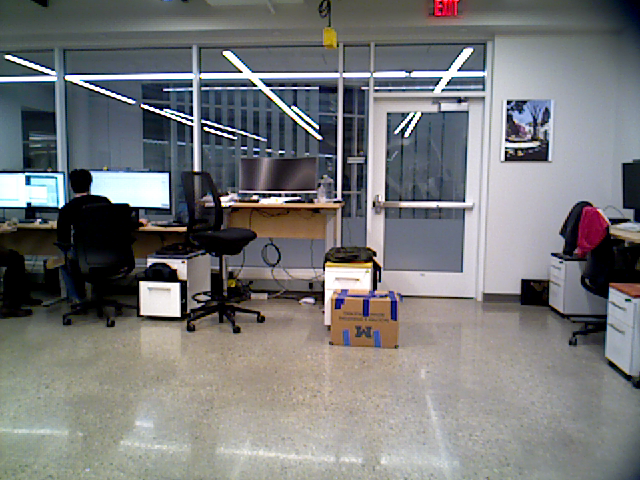painting3: (501, 99, 553, 162)
